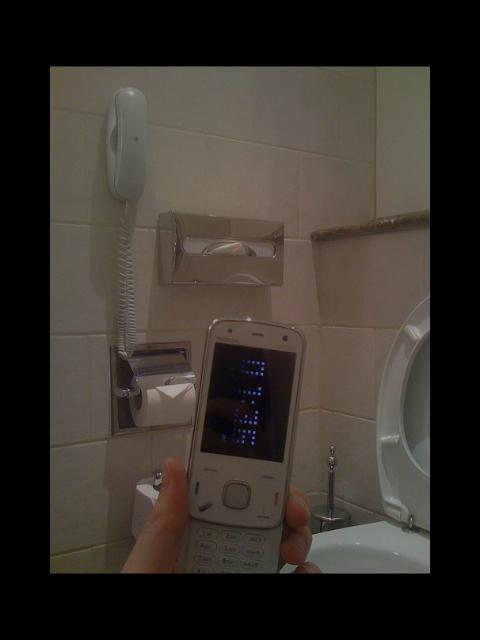Sanitario: (267, 298, 429, 573)
